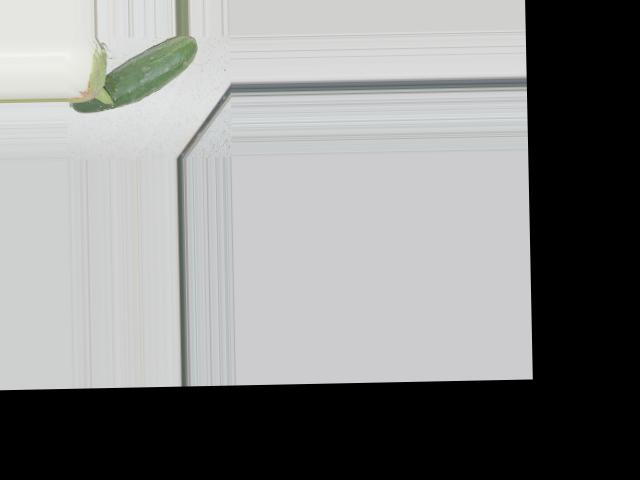cucumber: (68, 35, 199, 112)
